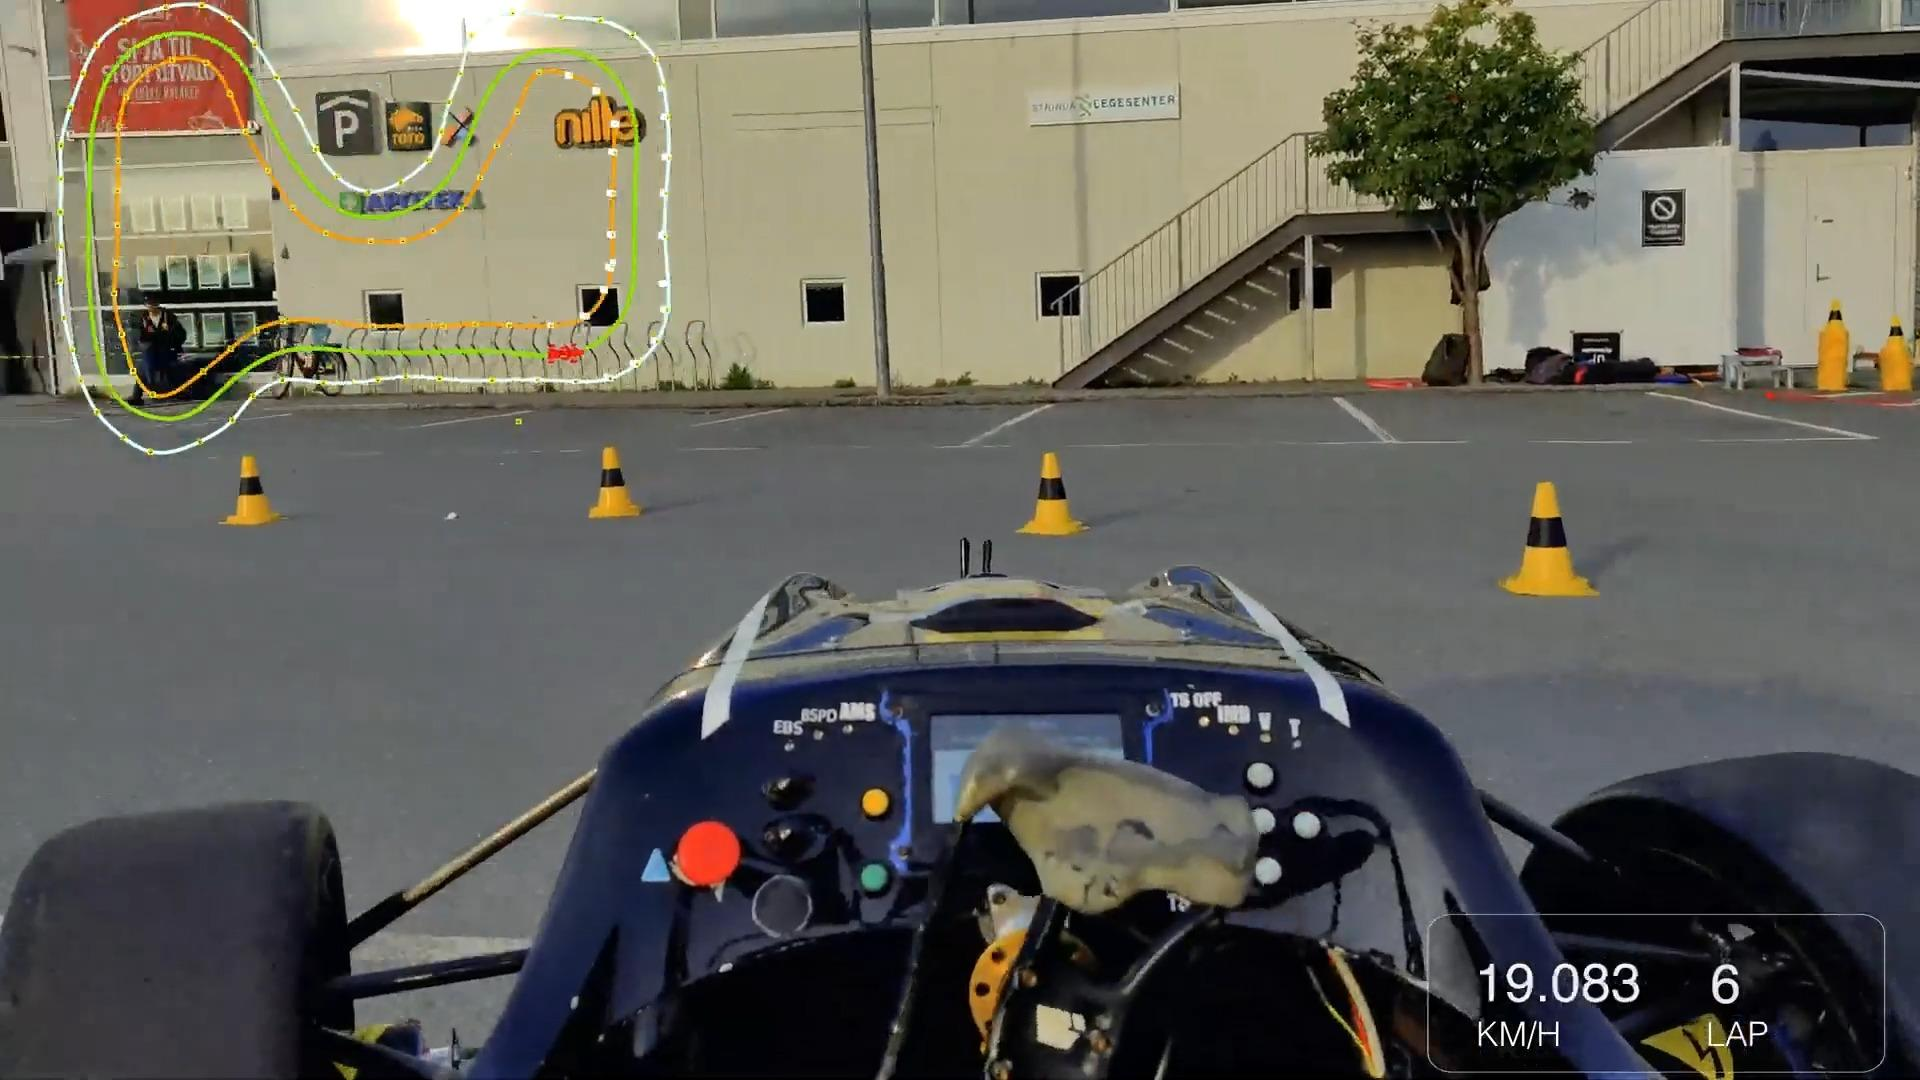yellow_cone: (1499, 479, 1598, 601), (1018, 450, 1091, 541), (584, 444, 645, 521), (220, 454, 281, 530), (1879, 315, 1912, 356), (1821, 298, 1849, 335)
